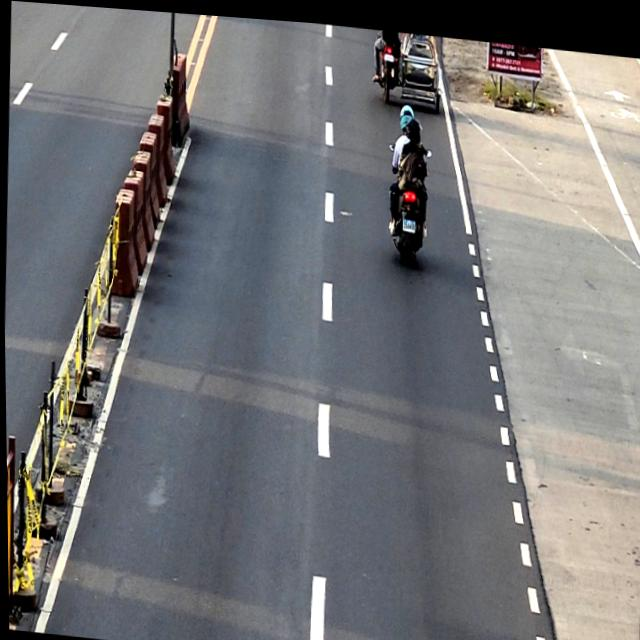License-Plate: (401, 212, 415, 226), (383, 46, 393, 56)
Motorcycle: (383, 137, 433, 262)
Tricycle: (377, 24, 442, 103)
